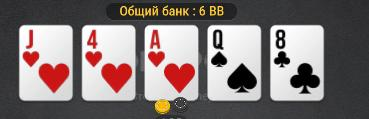4h: (83, 26, 135, 99)
8c: (272, 26, 323, 99)
Ah: (146, 27, 197, 100)
Jh: (20, 27, 72, 100)
Qs: (209, 27, 259, 99)
